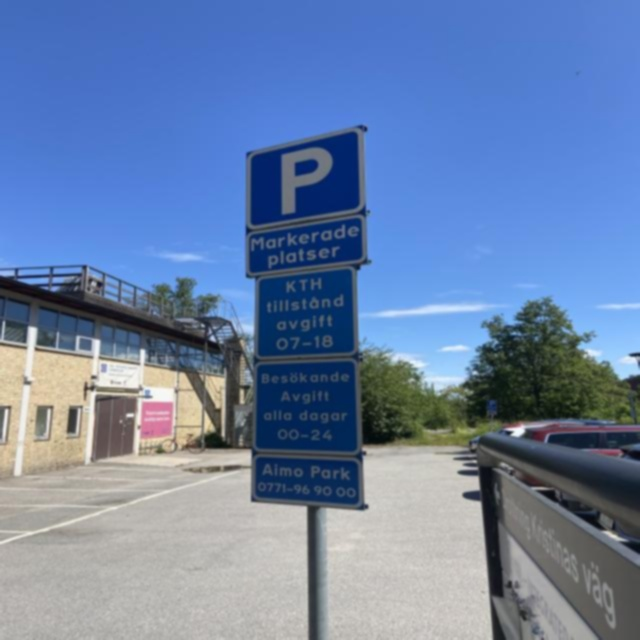P-skylt: (237, 122, 366, 231)
